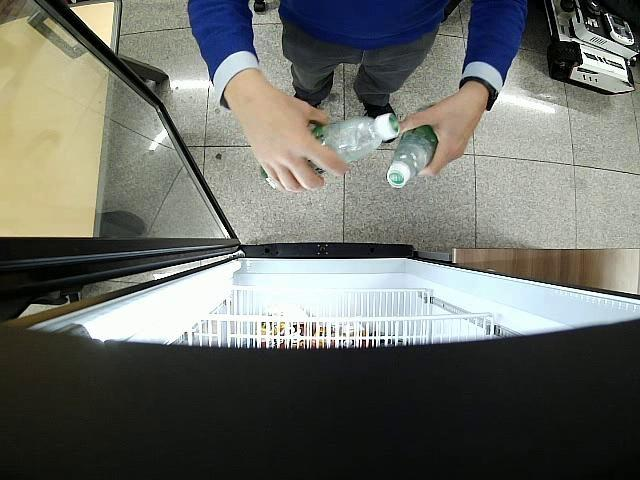18_trevi: (262, 112, 402, 189), (387, 104, 439, 188)
